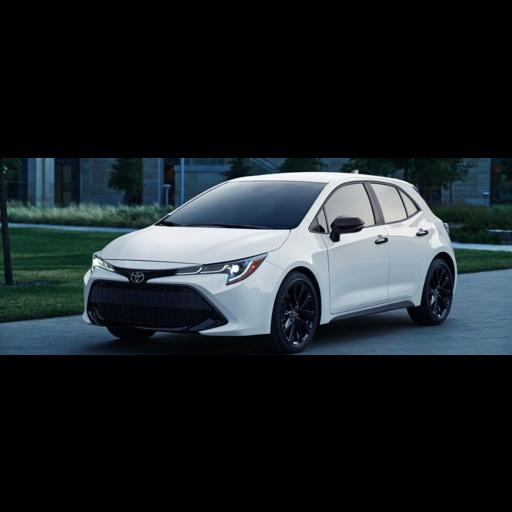hatchback: (83, 172, 455, 352)
